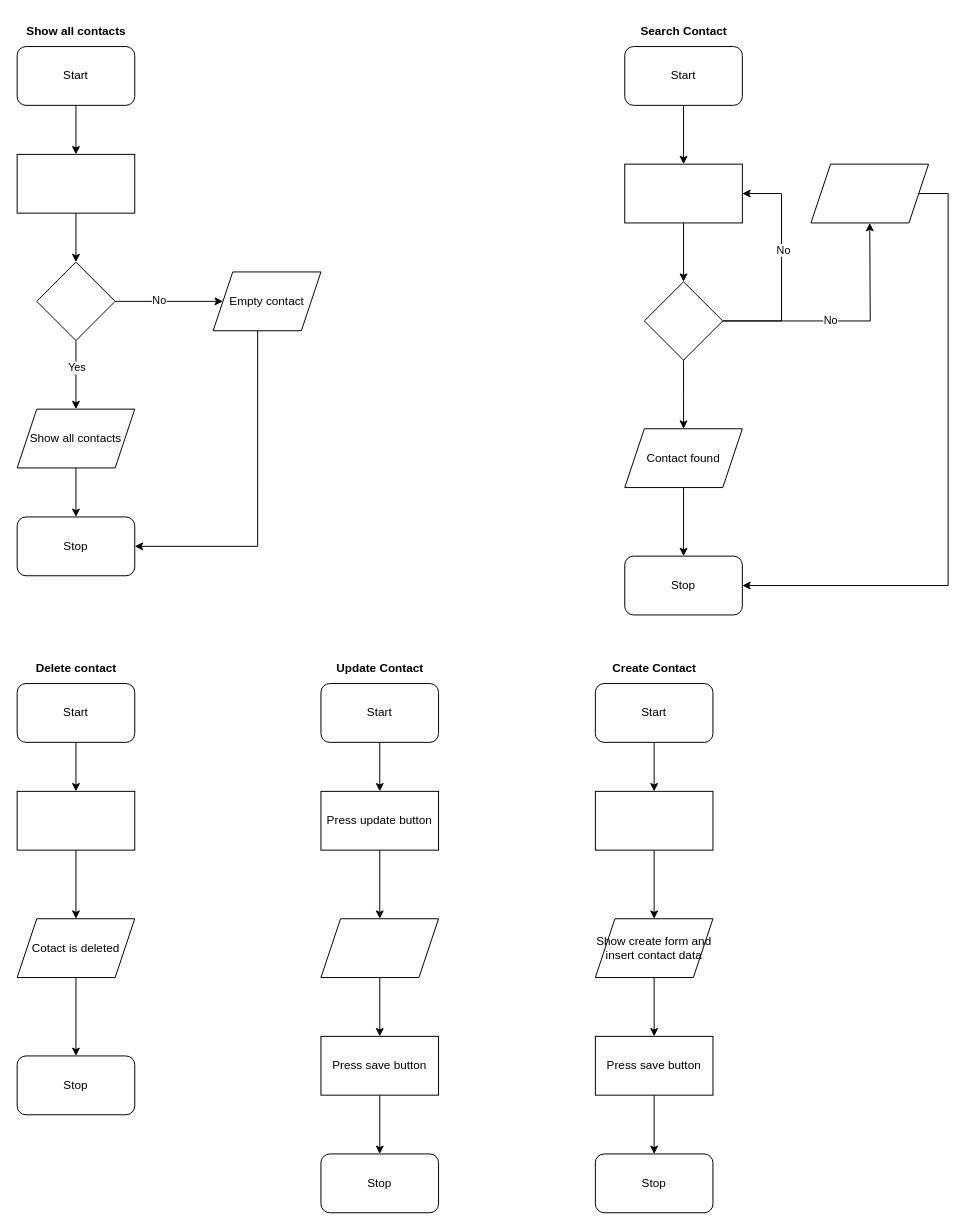
Some shapes in this 973 by 1230 pixel diagram are drawn without their labels. Here are the shapes that lost their labels. From the top down, the centre of each, then its label:
At (75,183): "Press homepage link".
At (683,193): "Type some keyword in field search".
At (869,193): "Contact not found".
At (75,301): "is contact available?".
At (683,320): "is contact found?".
At (75,820): "Press delete button".
At (653,820): "Press create button".
At (379,948): "Show update form and update contact data".
